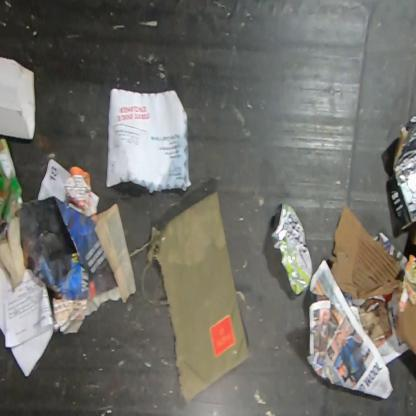cardboard: (326, 204, 405, 301), (390, 107, 415, 233), (0, 174, 24, 229)
metal: (270, 202, 312, 296)
soft_plastic: (145, 189, 250, 404)
